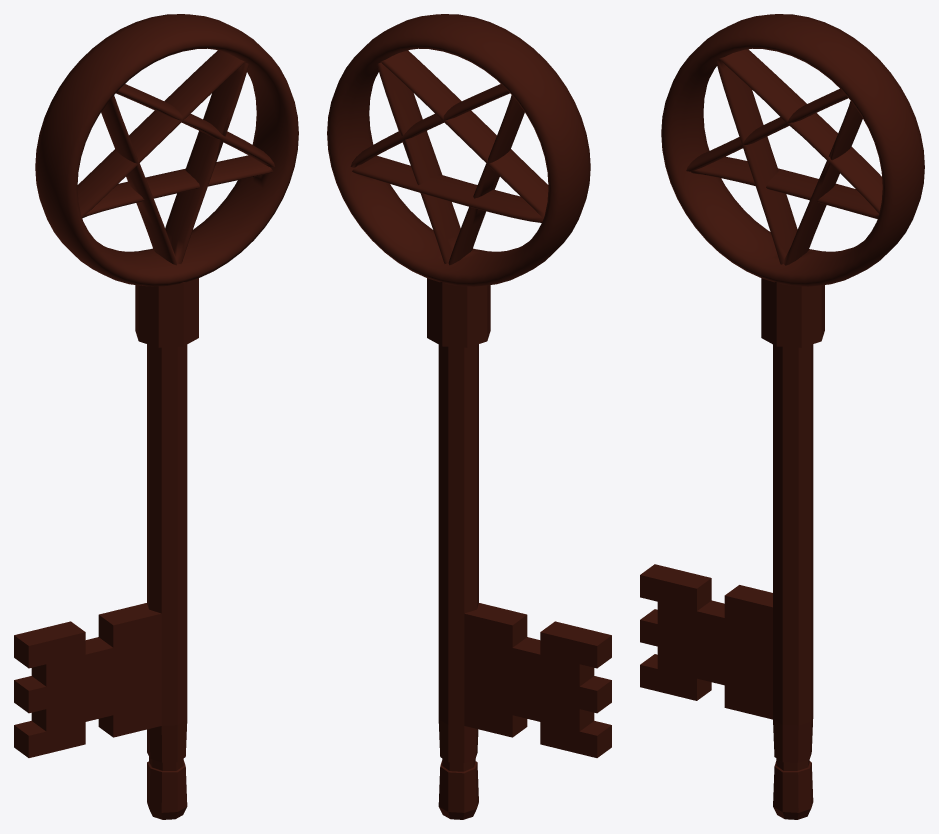
File: llave_estrella.fbx
3 views of the same model, side by side, from view 1: azimuth 30°, elevation 25°; view 2: azimuth 150°, elevation 25°; view 3: azimuth 330°, elevation 25° (orthographic).
Parts seen in each view (by area): view 1: llave_estrella; view 2: llave_estrella; view 3: llave_estrella.
Part boxes in pixels (<box>): llave_estrella: <box>14,14,298,819</box>; llave_estrella: <box>327,14,611,819</box>; llave_estrella: <box>640,14,924,819</box>.
Size of the model in its own units: 64.68 by 184 by 15.09.
